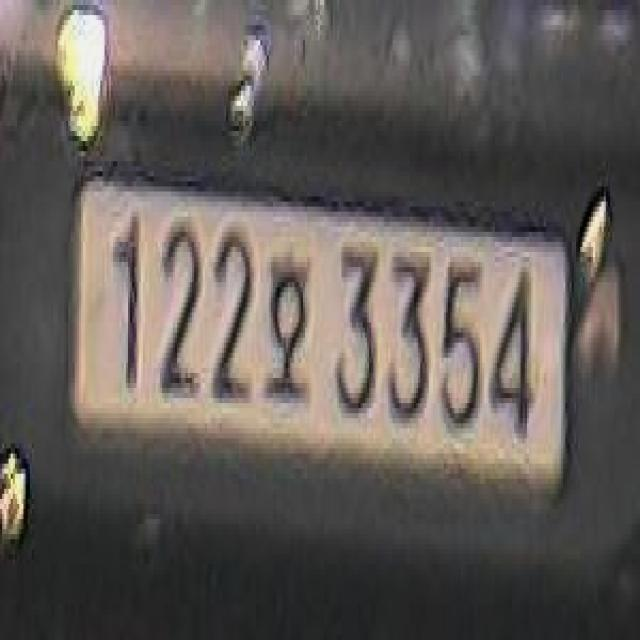illegal_plate: (75, 166, 571, 515)
